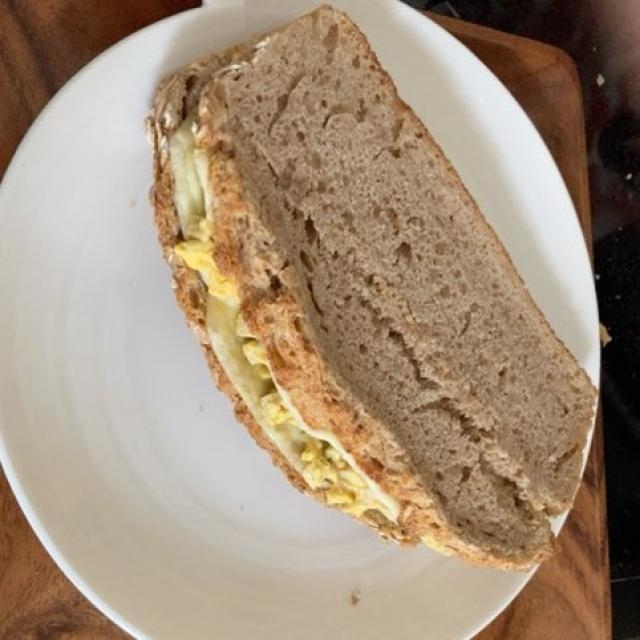bread: (154, 16, 598, 562)
egg: (193, 179, 390, 506)
